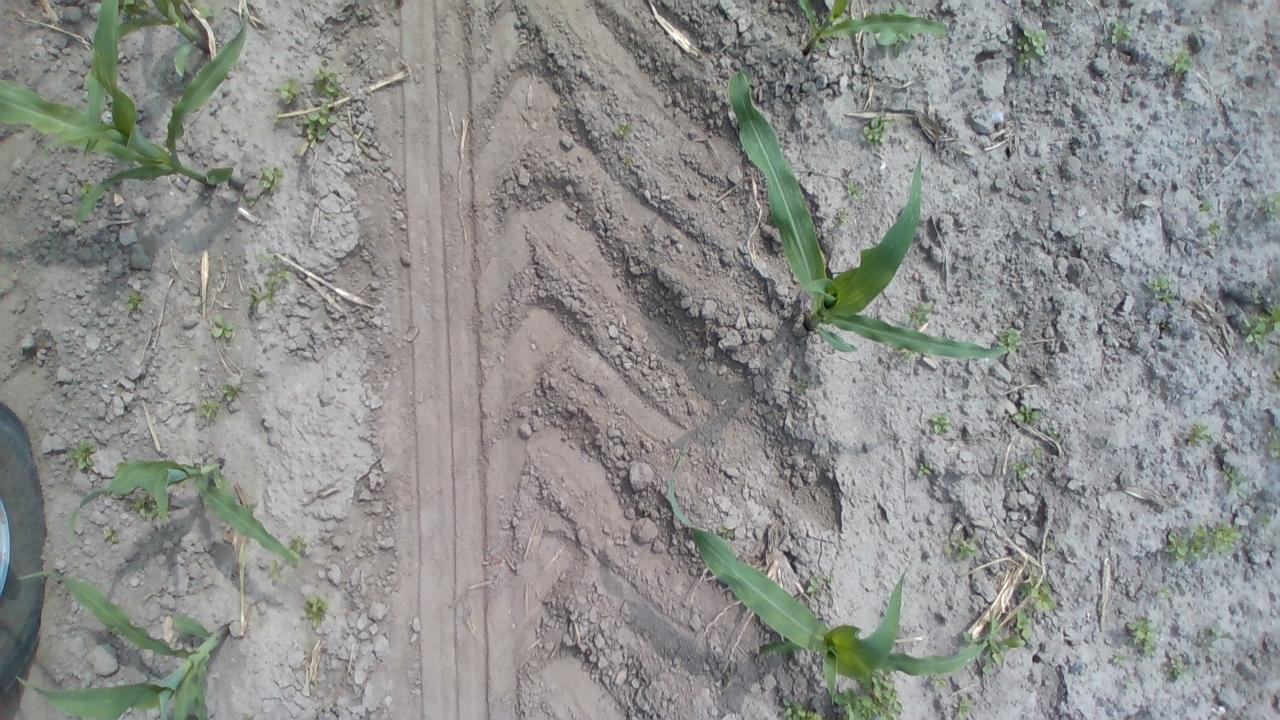Maize: (664, 437, 996, 700), (723, 63, 1008, 362), (0, 0, 247, 225), (16, 568, 230, 720), (65, 453, 300, 569), (90, 0, 216, 78), (799, 0, 949, 59)
Weeds: (962, 612, 1034, 679), (828, 669, 903, 720), (1166, 522, 1242, 567), (1241, 304, 1280, 354), (247, 267, 291, 306), (304, 100, 338, 148), (310, 58, 345, 101), (1126, 615, 1160, 658), (128, 492, 174, 523), (1017, 28, 1048, 72), (1020, 575, 1058, 610), (1142, 272, 1178, 304), (1221, 463, 1249, 501), (65, 438, 97, 470), (879, 31, 919, 56), (1162, 44, 1195, 74), (301, 594, 330, 628), (782, 696, 823, 720), (943, 536, 979, 562), (254, 164, 285, 194), (861, 115, 889, 144), (994, 326, 1023, 353), (208, 314, 240, 338), (902, 302, 934, 326), (285, 535, 312, 563), (1184, 423, 1212, 448), (806, 574, 834, 598), (276, 79, 302, 104), (952, 693, 976, 720), (1202, 624, 1220, 657), (195, 398, 224, 418), (1011, 404, 1040, 424), (1110, 20, 1134, 44), (216, 382, 242, 402), (930, 413, 954, 434), (1266, 424, 1280, 459), (126, 290, 146, 312), (1264, 192, 1280, 218), (1167, 656, 1185, 679), (613, 120, 635, 138), (266, 558, 284, 579), (831, 207, 849, 228), (847, 181, 865, 202), (1011, 459, 1028, 480), (1108, 652, 1132, 666), (1207, 220, 1223, 241), (254, 254, 281, 266), (900, 348, 922, 362), (40, 145, 62, 159), (102, 526, 119, 544), (929, 672, 948, 688), (79, 182, 95, 200), (718, 526, 735, 542), (240, 194, 258, 209), (1156, 582, 1171, 600), (1031, 446, 1044, 464), (918, 462, 934, 476), (1259, 512, 1272, 528), (891, 6, 910, 16), (796, 376, 809, 390), (1046, 538, 1058, 552), (876, 7, 892, 16), (1200, 200, 1212, 211), (241, 710, 254, 720), (1045, 0, 1063, 7), (22, 174, 34, 184), (721, 670, 732, 680), (1038, 162, 1048, 172), (1176, 98, 1186, 108), (1047, 428, 1057, 437), (1124, 680, 1133, 689), (622, 158, 631, 166), (862, 9, 872, 16)
